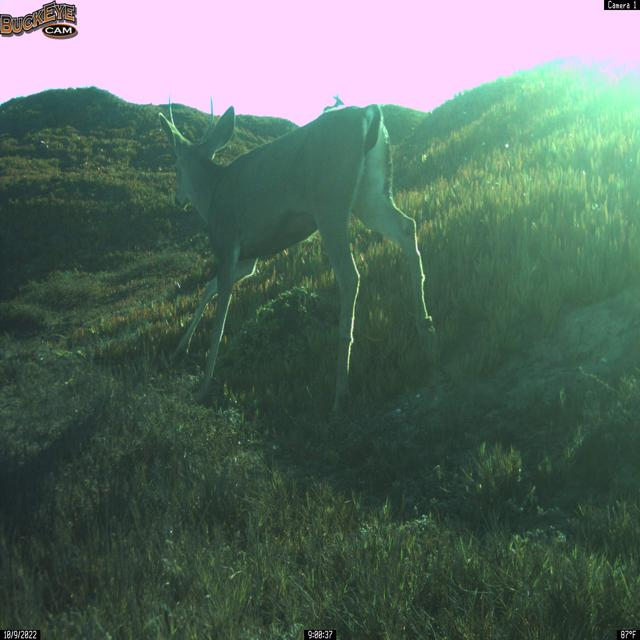deer: (156, 99, 440, 416)
